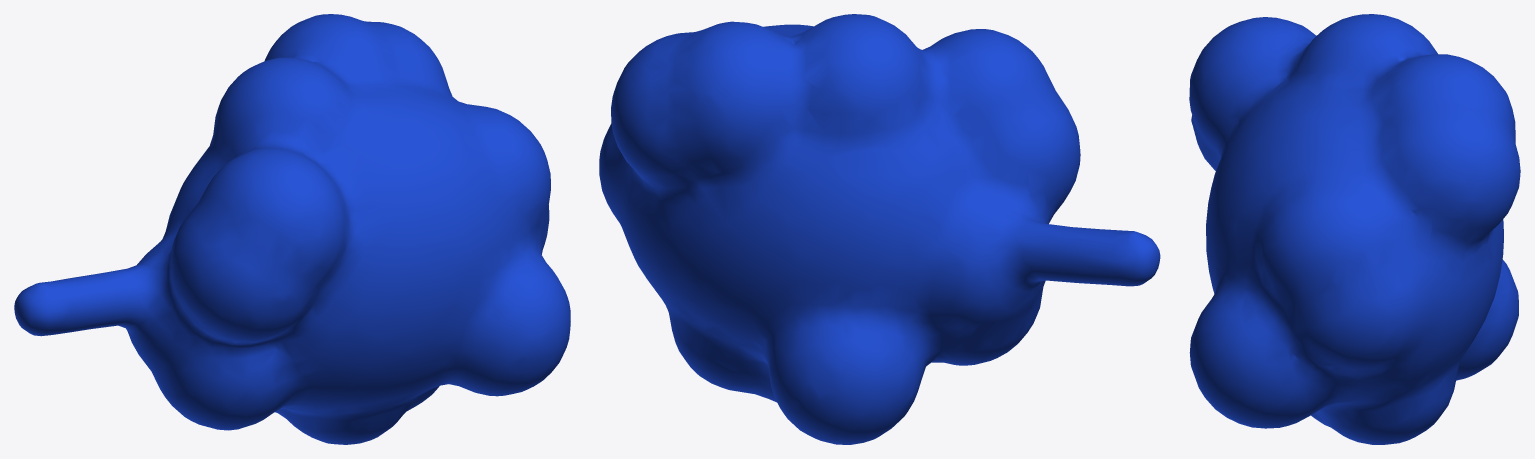
Rendered from blue-resin-seed.glb.
The picture shows the model from 3 angles, left to right: view 1: azimuth 30°, elevation 25°; view 2: azimuth 150°, elevation 25°; view 3: azimuth 270°, elevation 25°; orthographic projection. The views are drawn at different scales.
Visible parts, largest first — view 1: blue-resin-seed; view 2: blue-resin-seed; view 3: blue-resin-seed.
Boxes of the visible parts, x1,y1,x2,y2 form: blue-resin-seed: (14, 14, 570, 444); blue-resin-seed: (599, 14, 1160, 444); blue-resin-seed: (1189, 14, 1520, 444).
Bounding box in the file's own units: 2 × 1.39 × 1.1.
